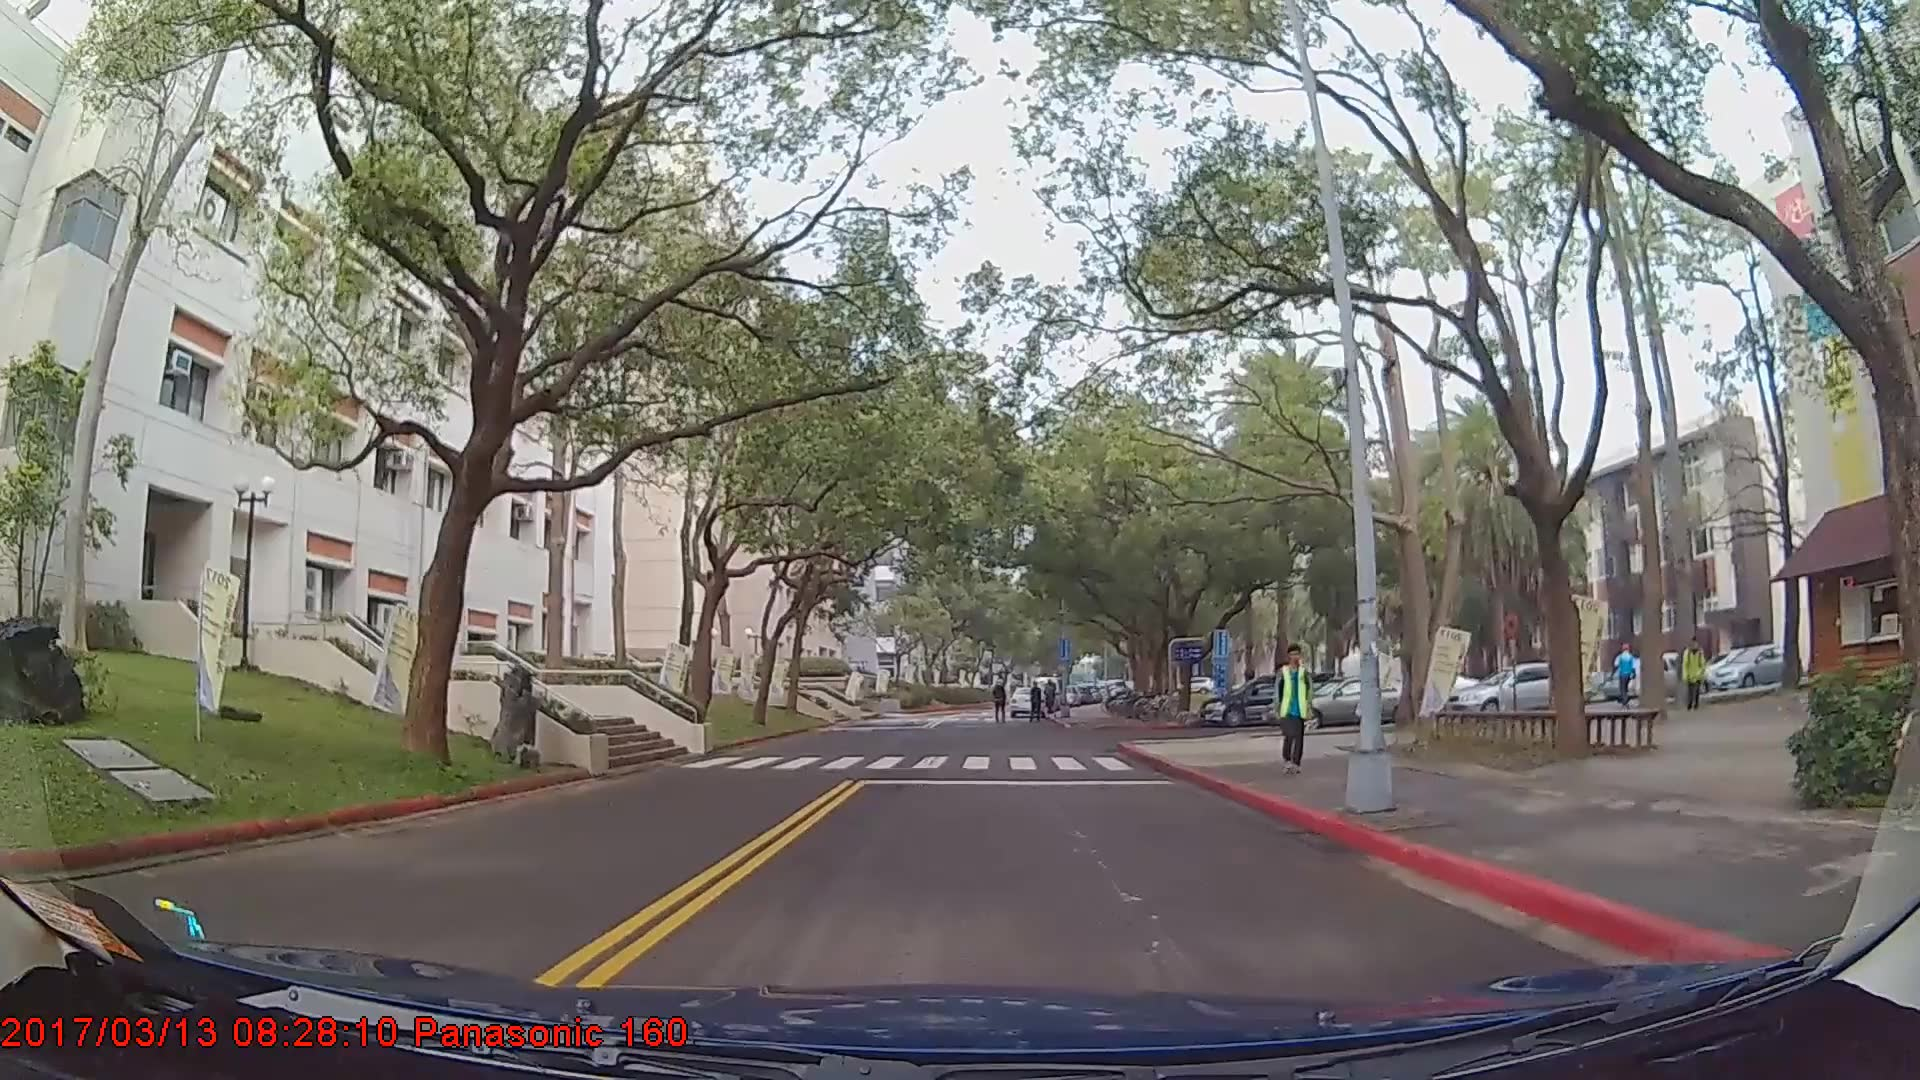pedestrian: (1276, 649, 1320, 782), (1615, 639, 1646, 719), (1682, 641, 1707, 716), (1027, 680, 1047, 725)
vehicle: (1290, 673, 1421, 729), (1444, 663, 1575, 720), (1203, 673, 1325, 727), (1708, 644, 1797, 691)
